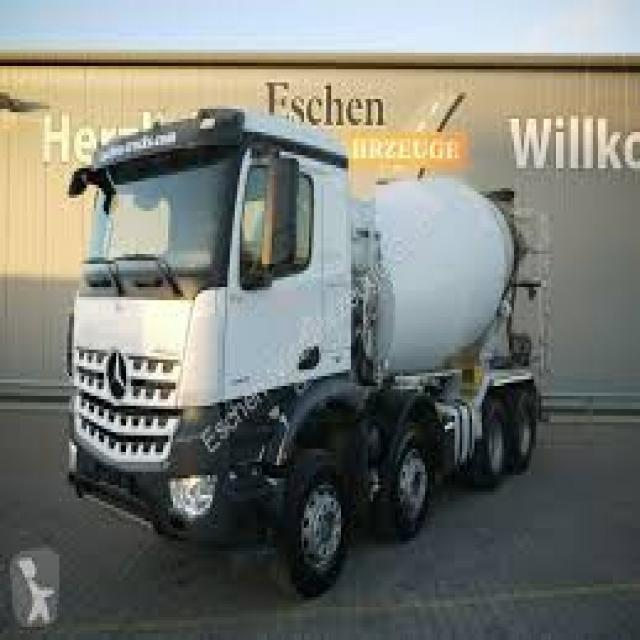Mixer Truck: (62, 105, 556, 606)
